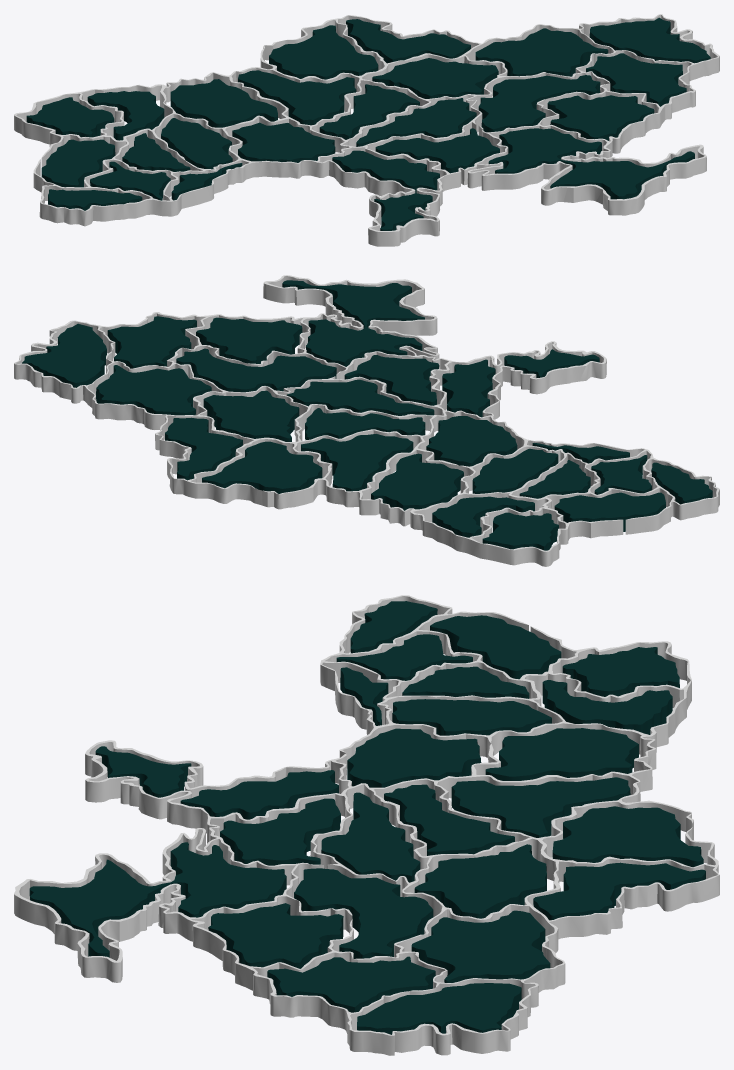
Rendered from uamap.gltf.
3 renders of one model, top to bottom at view 1: azimuth 30°, elevation 25°; view 2: azimuth 150°, elevation 25°; view 3: azimuth 270°, elevation 25°, orthographic. The views are drawn at different scales.
Parts seen in each view (by area): view 1: Extrude_25, Extrude_1, Extrude_17, Extrude_8, Extrude_23, Extrude_19, Extrude_16, Extrude_20, Extrude_4, Extrude_14, Extrude_12, Extrude_9 (+14 smaller); view 2: Extrude_25, Extrude_1, Extrude_8, Extrude_17, Extrude_23, Extrude_19, Extrude_16, Extrude_4, Extrude_20, Extrude_14, Extrude_12, Extrude_9 (+14 smaller); view 3: Extrude_25, Extrude_1, Extrude_17, Extrude_8, Extrude_23, Extrude_19, Extrude_20, Extrude_16, Extrude_4, Extrude_14, Extrude_12, Extrude_9 (+14 smaller).
Part boxes in pixels (bbox=[...]): Extrude_25: bbox=[14, 14, 719, 246]; Extrude_1: bbox=[488, 128, 694, 199]; Extrude_17: bbox=[475, 28, 608, 76]; Extrude_8: bbox=[478, 75, 600, 132]; Extrude_23: bbox=[269, 25, 378, 79]; Extrude_19: bbox=[238, 70, 356, 125]; Extrude_16: bbox=[372, 58, 498, 98]; Extrude_20: bbox=[170, 79, 277, 127]; Extrude_4: bbox=[547, 95, 654, 140]; Extrude_14: bbox=[589, 17, 710, 63]; Extrude_12: bbox=[232, 122, 335, 162]; Extrude_9: bbox=[586, 53, 686, 106]; Extrude_25: bbox=[14, 275, 719, 566]; Extrude_1: bbox=[282, 280, 424, 366]; Extrude_8: bbox=[176, 348, 336, 392]; Extrude_17: bbox=[96, 365, 211, 415]; Extrude_23: bbox=[202, 441, 322, 493]; Extrude_19: bbox=[301, 434, 413, 491]; Extrude_16: bbox=[203, 390, 299, 441]; Extrude_4: bbox=[196, 317, 302, 363]; Extrude_20: bbox=[371, 453, 463, 510]; Extrude_14: bbox=[22, 323, 106, 387]; Extrude_12: bbox=[426, 416, 517, 466]; Extrude_9: bbox=[107, 316, 196, 368]; Extrude_25: bbox=[14, 595, 719, 1055]; Extrude_1: bbox=[29, 842, 286, 957]; Extrude_17: bbox=[411, 910, 550, 982]; Extrude_8: bbox=[294, 868, 433, 958]; Extrude_23: bbox=[552, 806, 703, 867]; Extrude_19: bbox=[451, 777, 630, 837]; Extrude_20: bbox=[485, 728, 638, 780]; Extrude_16: bbox=[414, 844, 546, 918]; Extrude_4: bbox=[208, 903, 343, 968]; Extrude_14: bbox=[357, 983, 521, 1034]; Extrude_12: bbox=[347, 728, 481, 787]; Extrude_9: bbox=[267, 956, 435, 1012].
Bounding box in the file's own units: 0.4676 × 0.00999 × 0.3165.
